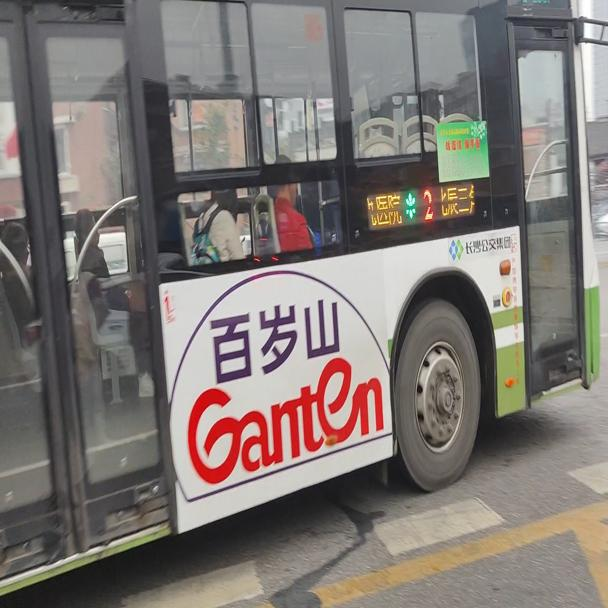bus: (1, 4, 603, 589)
screen: (419, 181, 438, 229)
